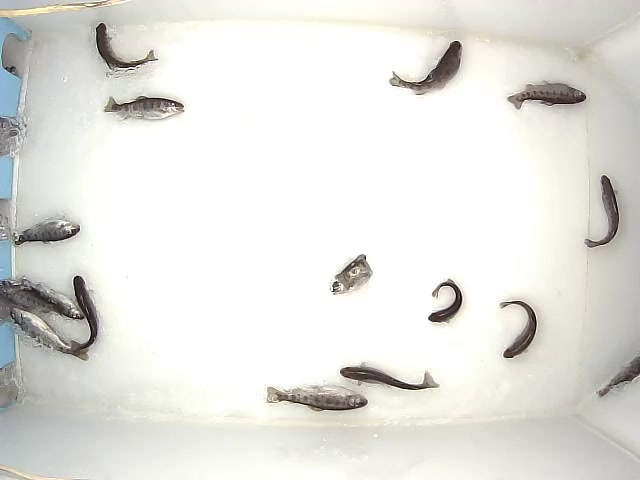fish: (8, 307, 92, 366), (388, 36, 465, 98), (94, 19, 161, 73), (335, 362, 444, 394), (261, 382, 370, 413), (582, 173, 623, 248), (18, 279, 88, 322), (493, 297, 538, 360), (65, 273, 98, 353), (505, 81, 586, 113), (6, 213, 83, 245), (102, 95, 191, 122), (425, 275, 470, 326), (328, 251, 373, 298)
